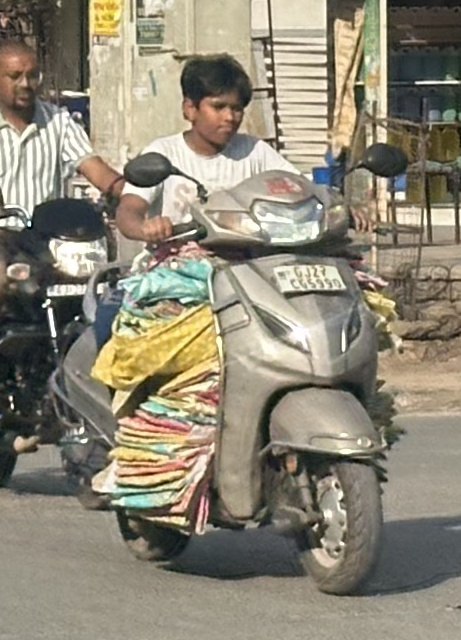BikeWithRider: (43, 45, 417, 600), (0, 24, 152, 516)
NoHelmet: (171, 47, 260, 150), (0, 35, 56, 117)
